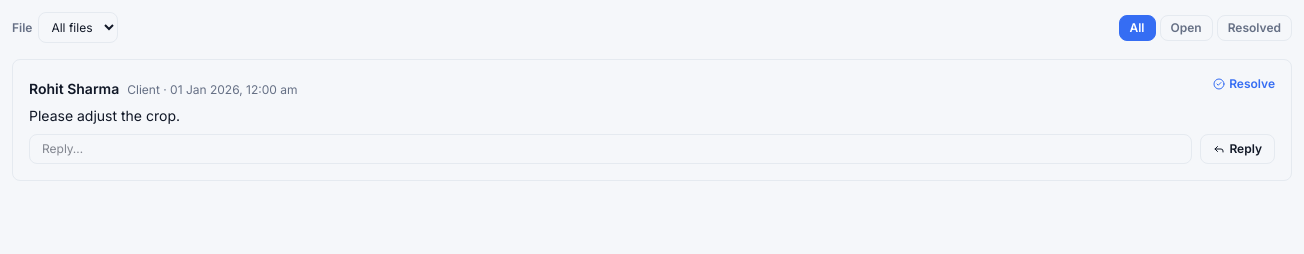
CommentsTab reply › replying inserts the new reply under the correct parent, with no page reload
The image size is (1304, 254).
Type "Sure, updating now." into the field with placeholder "Reply…". click: {"x": 611, "y": 149}
box: [29,134,1192,164]
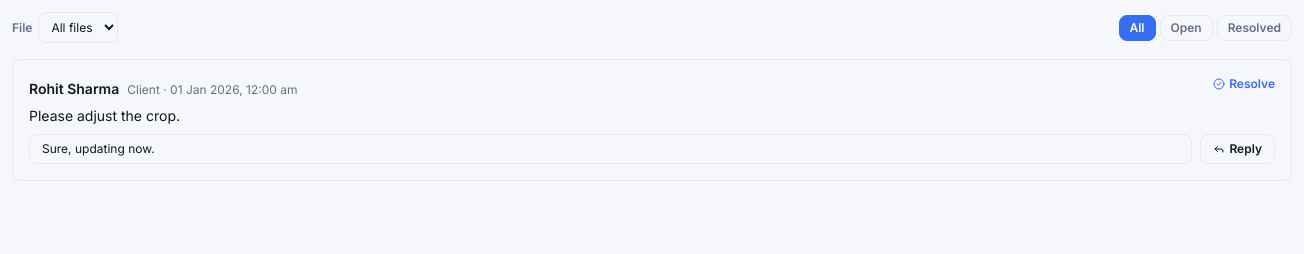
Click the button "Reply". click: {"x": 1238, "y": 149}
box: [1200,134,1275,164]
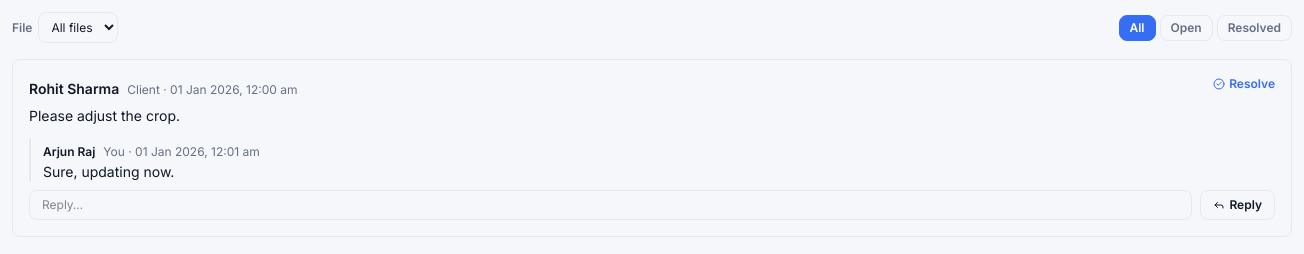
Now the text "Sure, updating now." is shown, box [43,163,174,180]
Now the field with placeholder "Reply…" is empty, box [29,190,1192,220]
